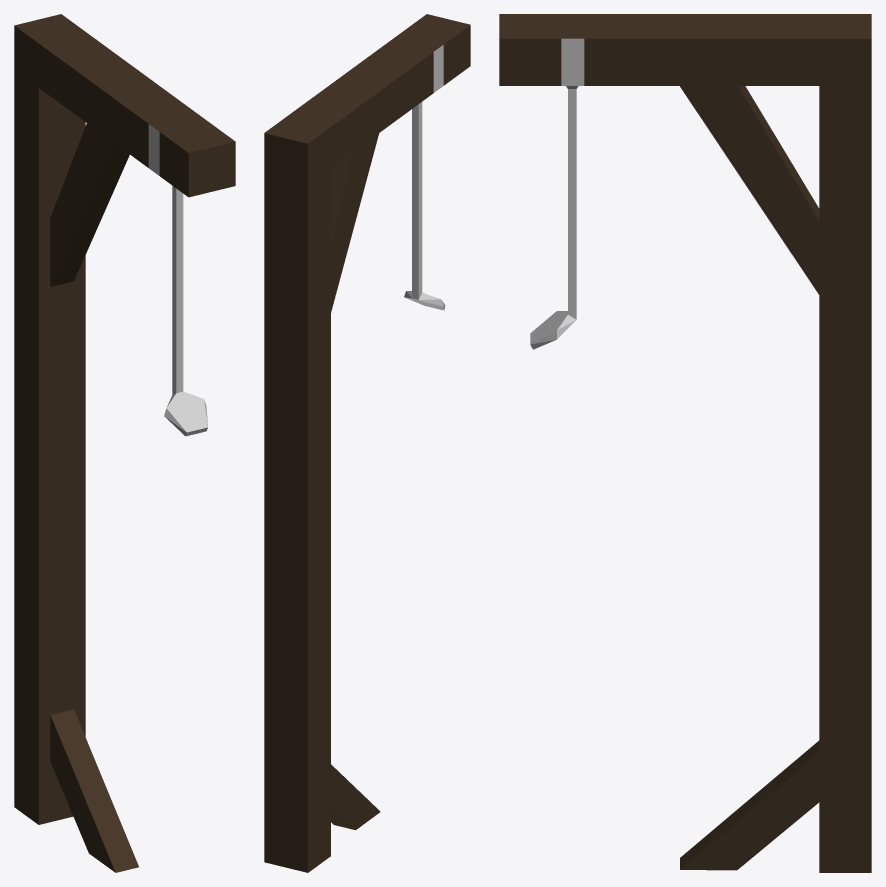
File: OC_LOB_GALGEN.OBJ
3 views of the same model, side by side, from view 1: azimuth 30°, elevation 25°; view 2: azimuth 150°, elevation 25°; view 3: azimuth 270°, elevation 25° (orthographic). The views are drawn at different scales.
Parts seen in each view (by area): view 1: OC_LOB_GALGEN; view 2: OC_LOB_GALGEN; view 3: OC_LOB_GALGEN.
Boxes of the visible parts, <box> form: OC_LOB_GALGEN: <box>14,14,235,872</box>; OC_LOB_GALGEN: <box>264,14,470,872</box>; OC_LOB_GALGEN: <box>499,14,871,872</box>.
Bounding box in the file's own units: 0.508 × 8.09 × 3.26.
